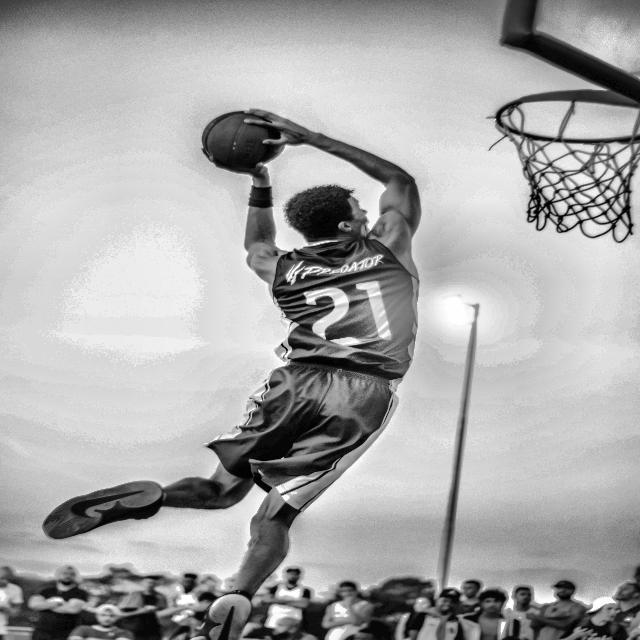Basketball: (201, 110, 284, 173)
